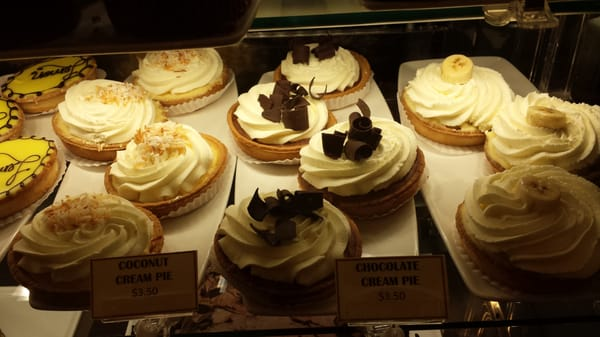sushi: (456, 165, 600, 290), (213, 187, 354, 312), (297, 109, 425, 219), (104, 121, 227, 219), (399, 54, 514, 147), (483, 92, 596, 173), (51, 79, 157, 161), (229, 79, 329, 161), (126, 48, 229, 114), (277, 39, 373, 109), (1, 55, 105, 116), (0, 136, 60, 225)
